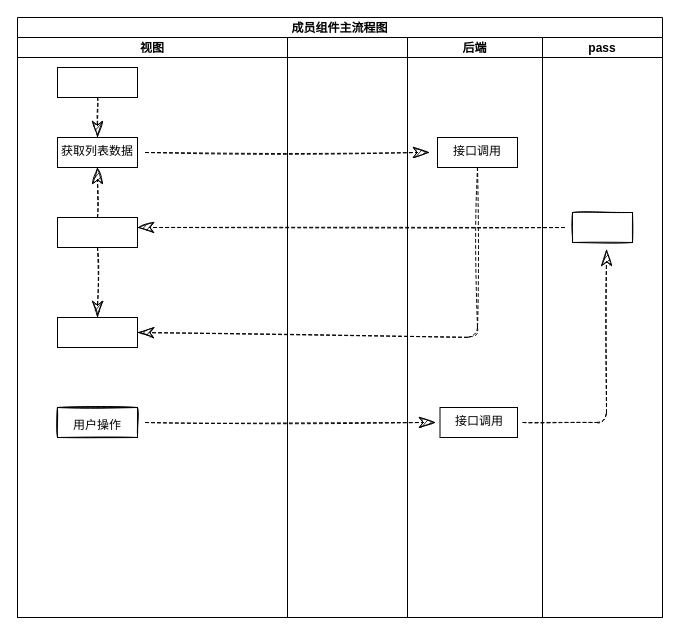
Image size: 680x635. Some labels were removed from this diagram. Each missing label, with the centre of its shape:
"sdk" goes at [347,327].
"开始" goes at [97,82].
"更新视图" goes at [97,332].
"派发事件" goes at [602,227].
"监听事件" goes at [97,232].
